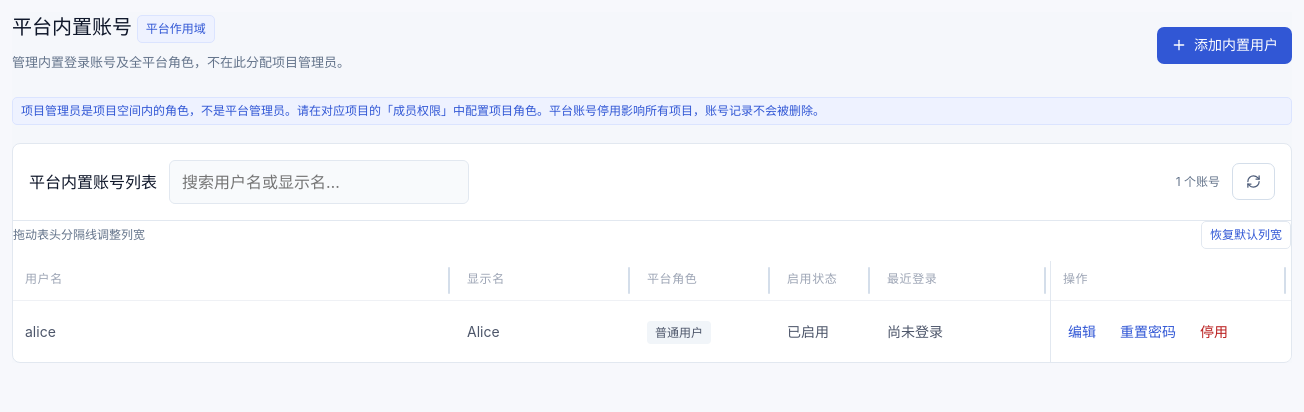
Test: loads actual accounts and filters them without invented login dates
Expected: the text "Alice" is shown, 455,300 -> 635,362
Expected: the text "尚未登录" is shown, 875,300 -> 1051,362
Type "missing" into the search field at (319, 182), box 169,160 -> 469,204
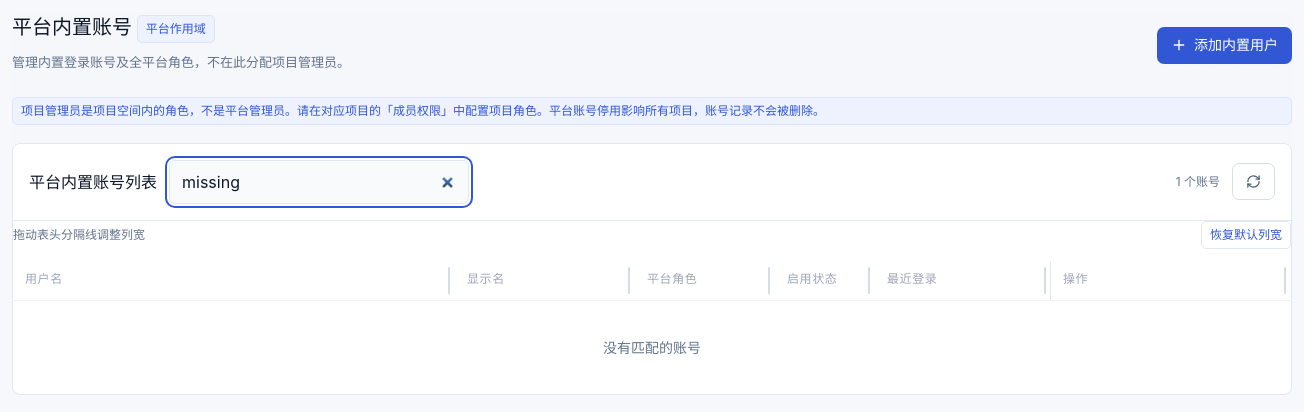
Expected: the text "没有匹配的账号" is shown, 13,300 -> 1291,394
